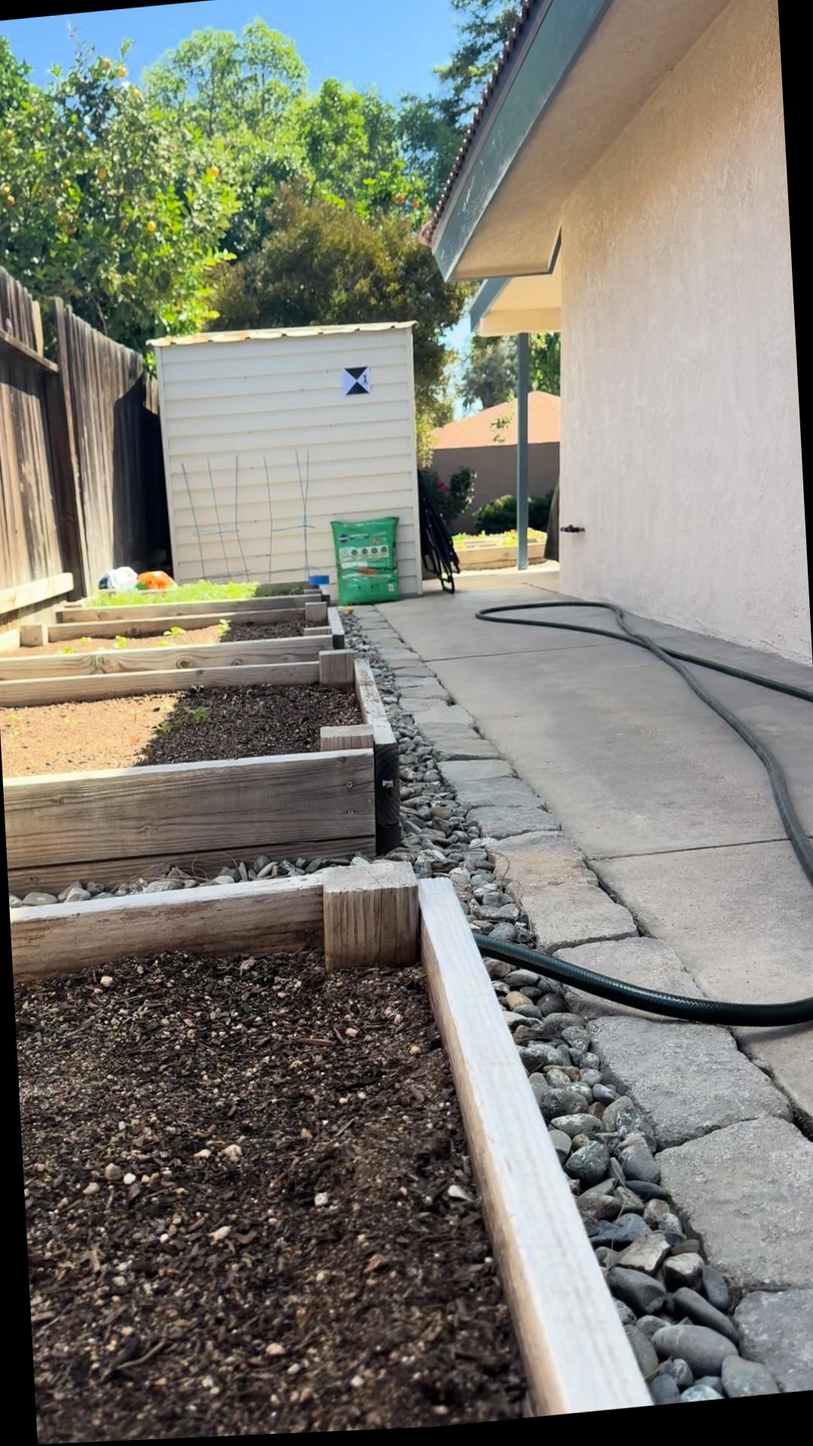target1: (342, 364, 375, 399)
